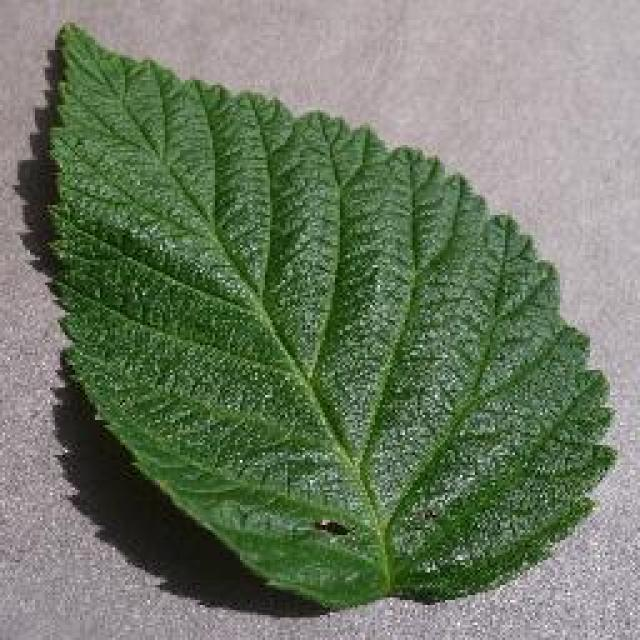Ras_healthy: (45, 93, 542, 563)
